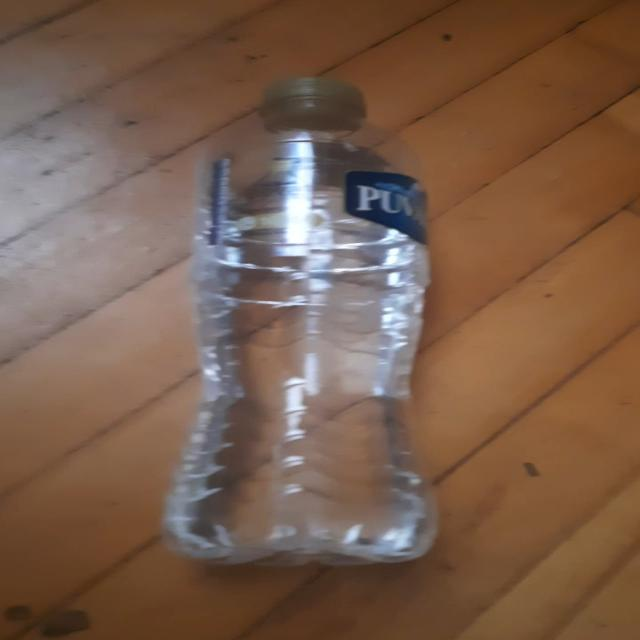Plastic: (159, 77, 440, 571)
